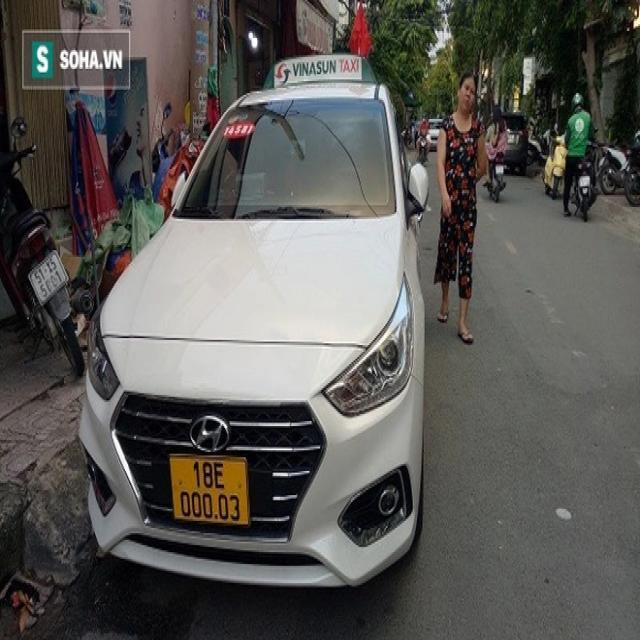car: (74, 56, 442, 598)
motorcycle: (483, 152, 513, 204)
plate: (164, 449, 255, 528)
